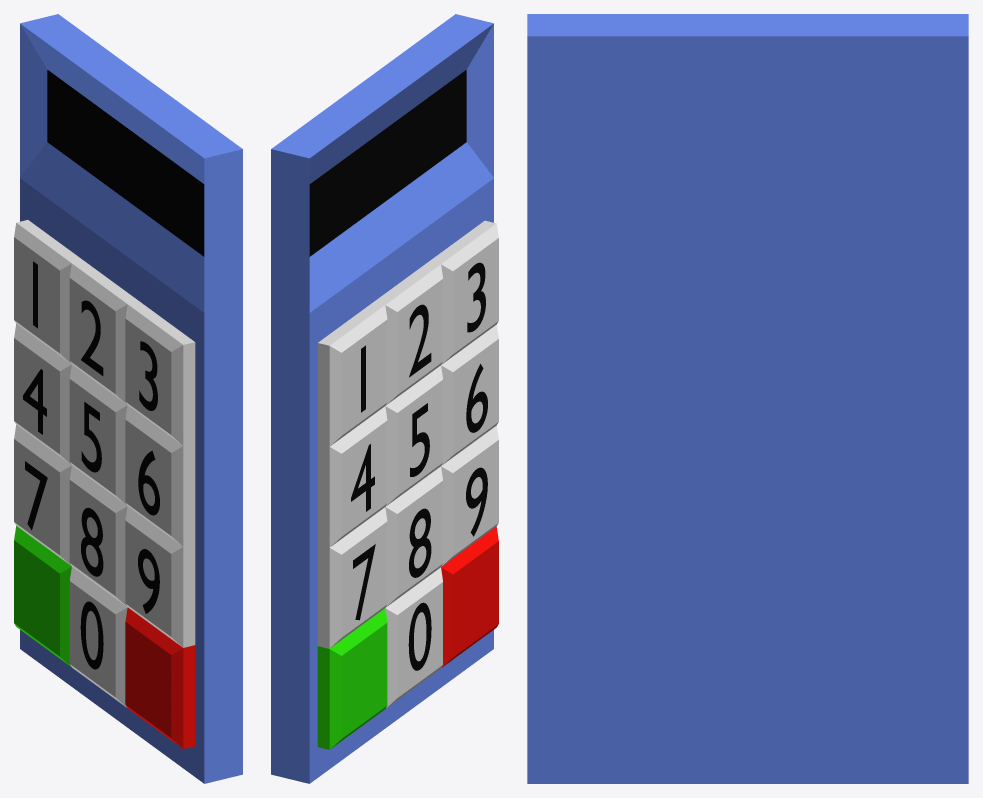
The model's file is Keypad.fbx.
3 renders of one model, left to right at view 1: azimuth 30°, elevation 25°; view 2: azimuth 150°, elevation 25°; view 3: azimuth 270°, elevation 25°, orthographic. The views are drawn at different scales.
Visible parts, largest first — view 1: Keypad, 3, cross, 6, 9, 1, 2, 0, 5, 7, 8.001, 4 (+10 smaller); view 2: Keypad, 1, 0, 7, 4, 3, 2, cross, 5, 6, 9, 8.001 (+10 smaller); view 3: Keypad.
Boxes of the visible parts, x1,y1,x2,y2 form: Keypad: (20, 14, 242, 783); 3: (125, 301, 195, 445); cross: (125, 607, 195, 748); 6: (125, 405, 195, 546); 9: (125, 506, 195, 647); 1: (14, 220, 83, 363); 2: (69, 260, 138, 404); 0: (14, 526, 71, 667); 5: (69, 365, 127, 505); 7: (14, 425, 71, 565); 8.001: (69, 566, 127, 707); 4: (14, 324, 71, 464); Keypad: (271, 14, 493, 783); 1: (317, 302, 387, 446); 0: (317, 608, 387, 749); 7: (317, 507, 387, 648); 4: (317, 406, 387, 547); 3: (429, 220, 498, 364); 2: (374, 261, 442, 405); cross: (441, 527, 498, 667); 5: (385, 365, 442, 506); 6: (441, 325, 498, 465); 9: (441, 426, 498, 566); 8.001: (385, 567, 442, 708); Keypad: (527, 14, 968, 783).
Bounding box in the file's own units: 6.45 × 66.91 × 35.79.
